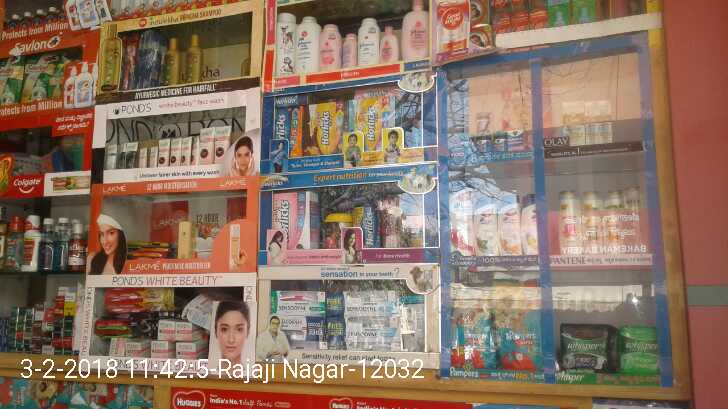beauty: (622, 183, 650, 253), (449, 184, 475, 252), (558, 185, 581, 253), (496, 193, 519, 259), (517, 192, 540, 256), (559, 100, 587, 149), (604, 186, 624, 251), (475, 195, 496, 256), (582, 191, 602, 252), (587, 100, 612, 147)
pharmacy: (449, 302, 499, 371), (495, 302, 540, 374), (557, 322, 611, 372), (618, 327, 658, 380), (473, 133, 490, 165), (506, 129, 527, 150), (494, 136, 506, 156)
